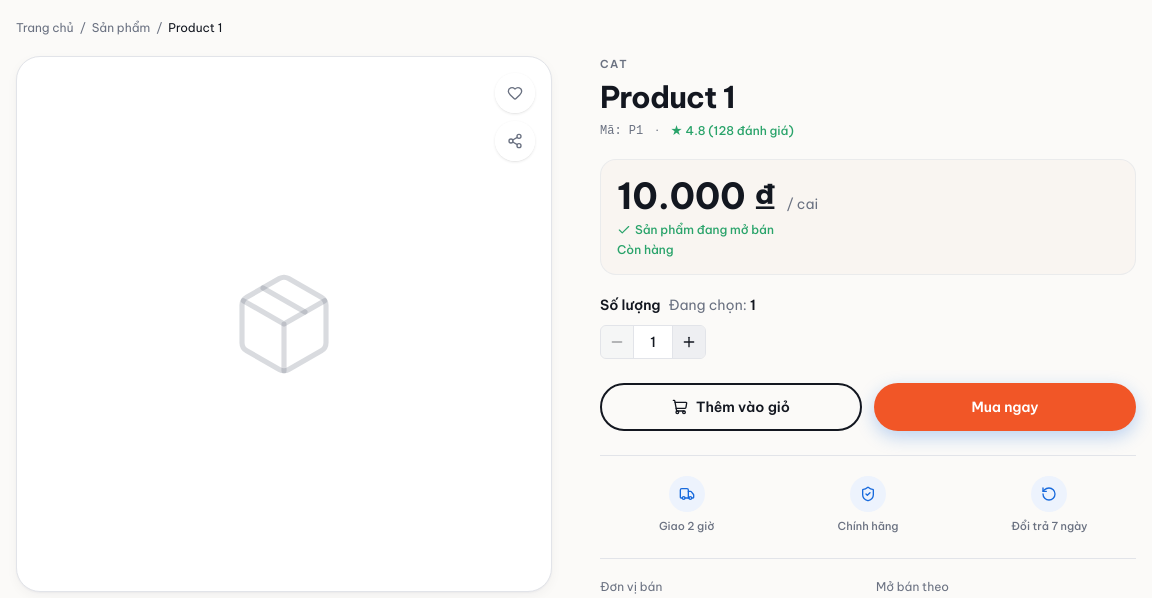
Test: ProductDetail public DTO cart flow › product_detail_quantity_increment_decrement_updates_visible_value
expect the text with test id "storefront-product-quantity-value" reads "1": met, box [750,296,756,314]
Click the button with test id "storefront-product-quantity-increment": {"x": 689, "y": 342} [673,326,705,358]
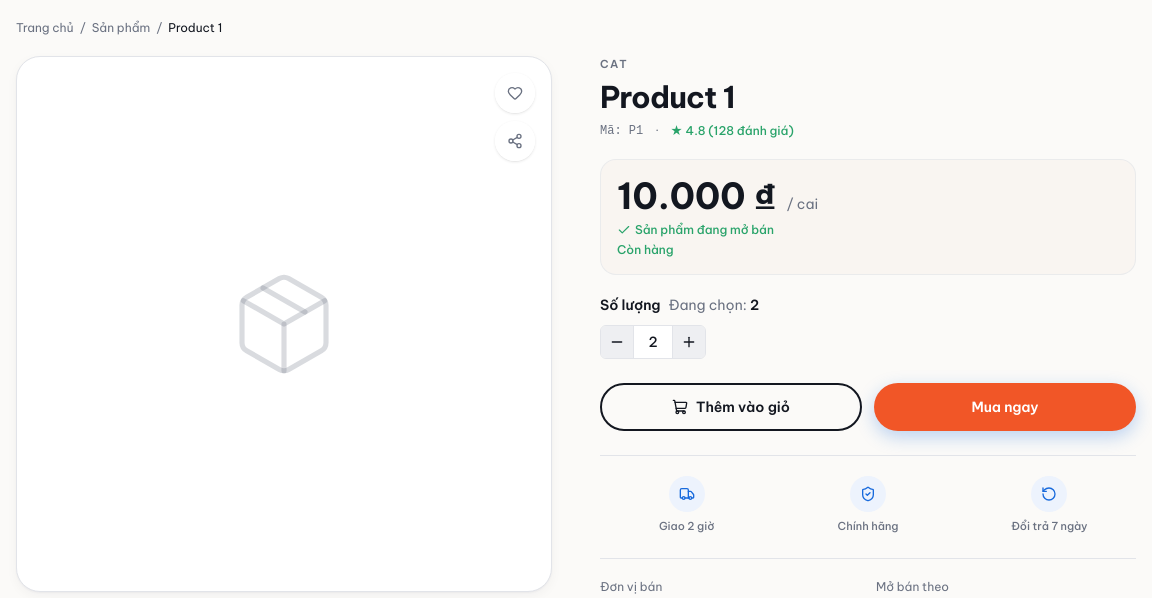
expect the text with test id "storefront-product-quantity-value" reads "2": met, box [750,296,759,314]
Click the button with test id "storefront-product-quantity-decrement": {"x": 617, "y": 342} [601,326,633,358]
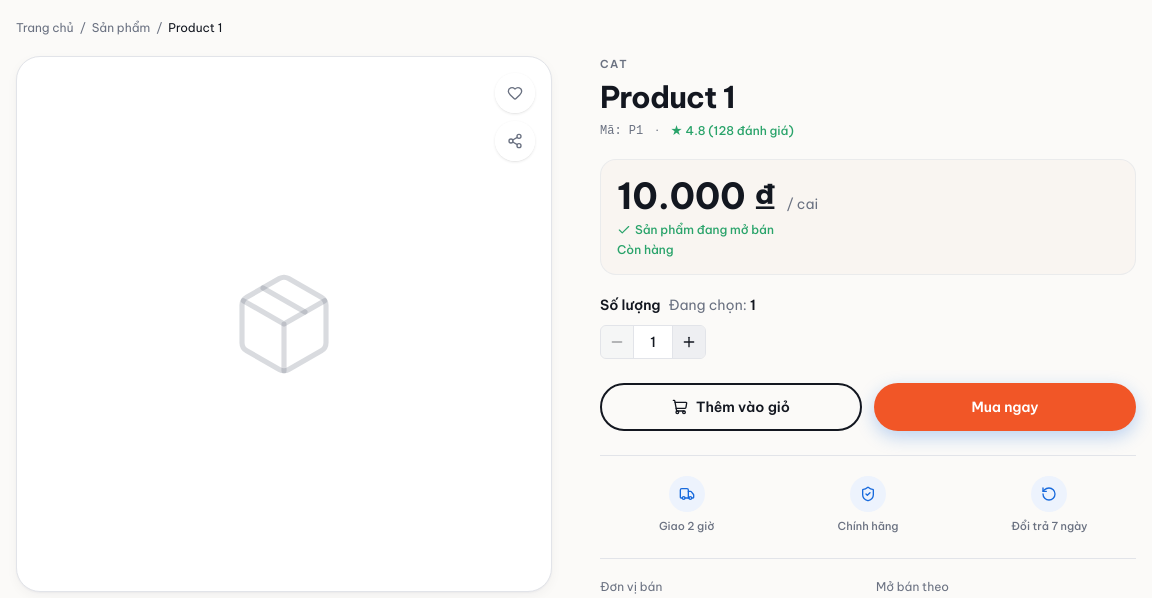
expect the text with test id "storefront-product-quantity-value" reads "1": met, box [750,296,756,314]
